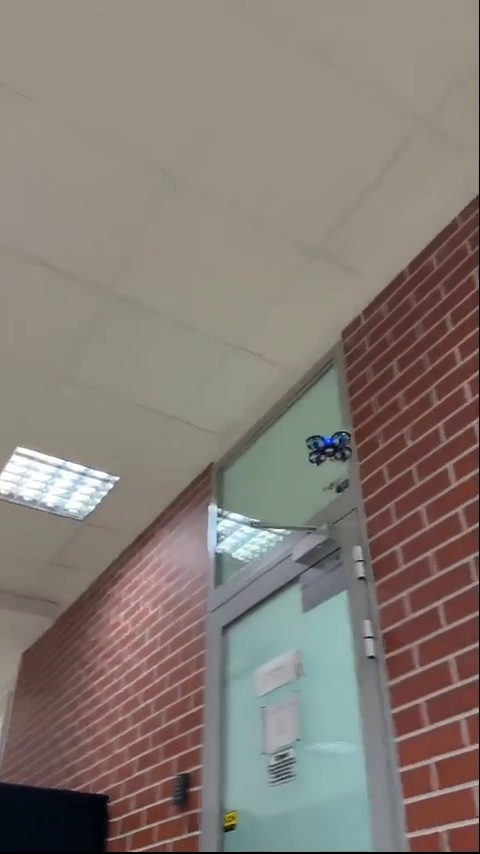drone: (307, 431, 360, 469)
